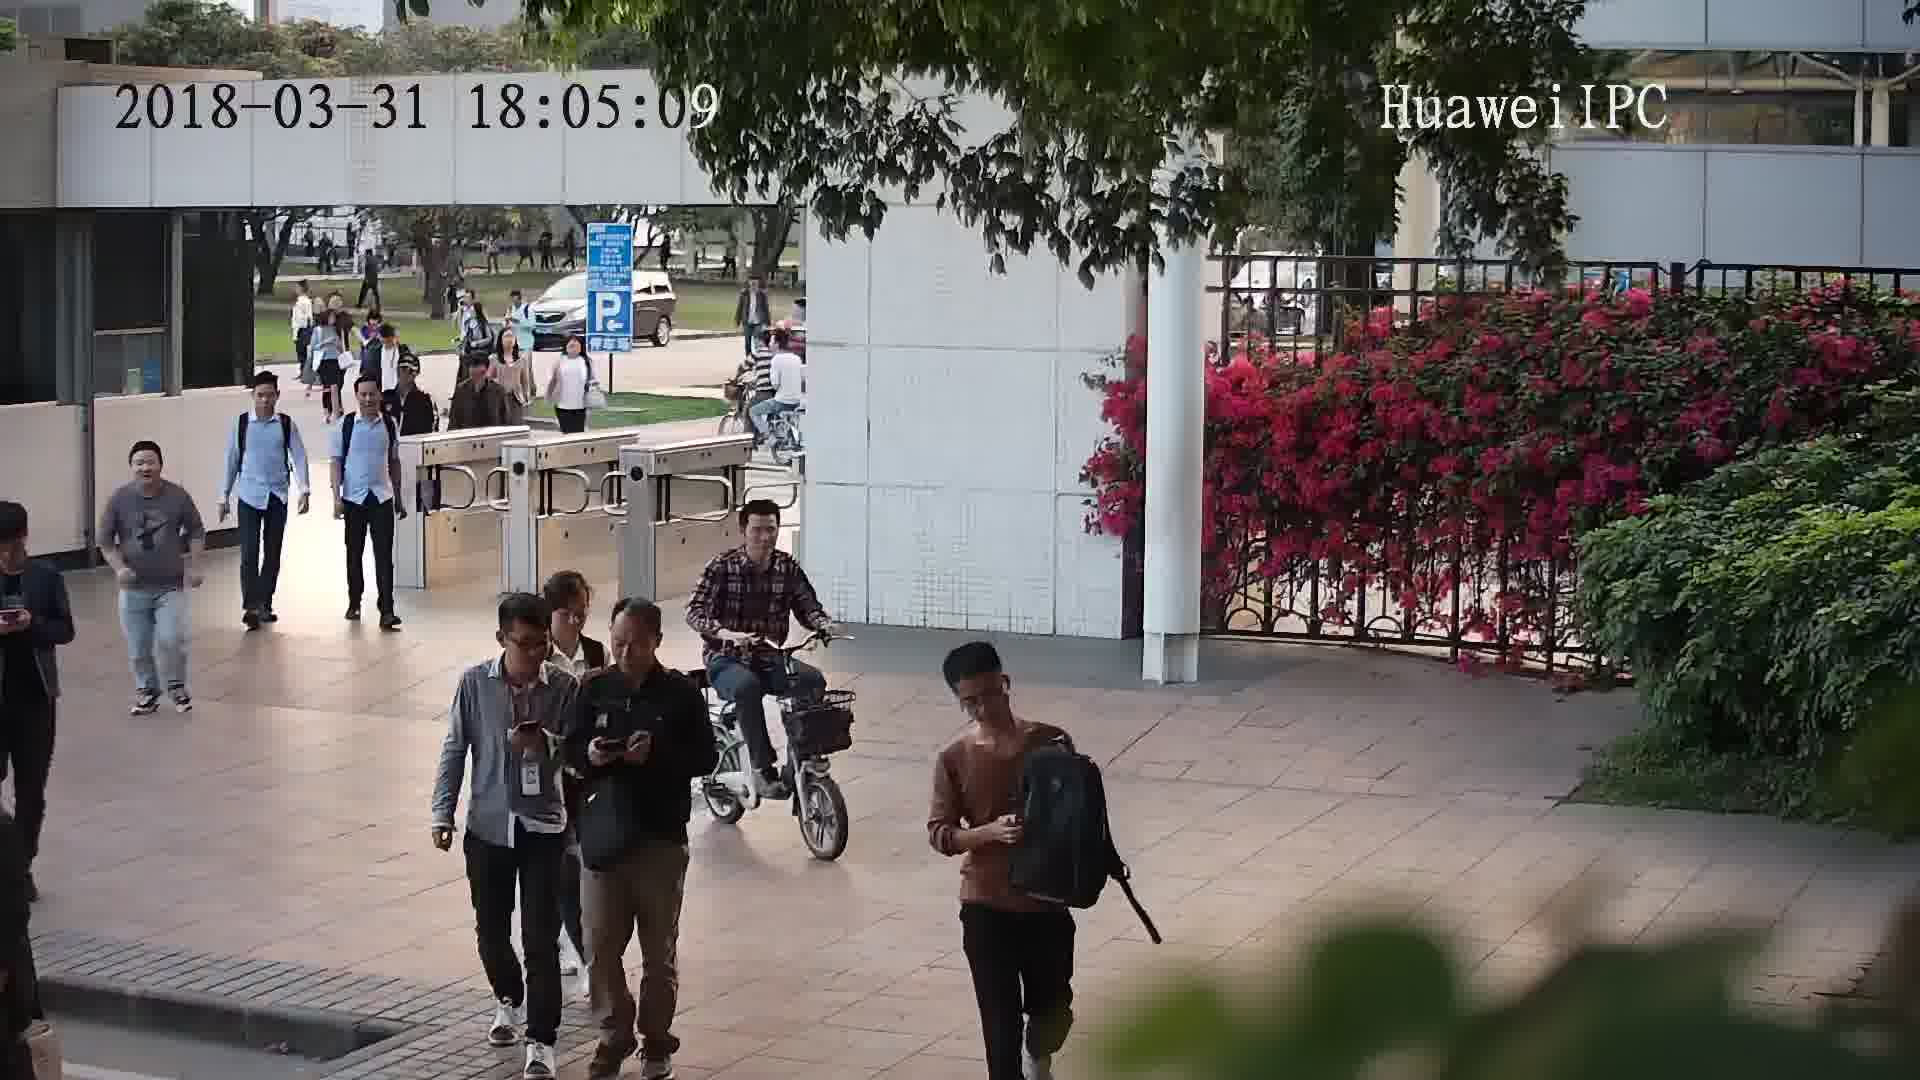face: (601, 614, 664, 677), (954, 670, 1009, 725), (503, 621, 554, 672), (545, 590, 594, 639), (740, 511, 781, 559), (125, 448, 165, 485), (352, 383, 384, 415), (252, 381, 282, 415)
person: (927, 636, 1066, 769), (456, 586, 572, 711), (580, 593, 698, 713), (708, 492, 805, 581), (541, 566, 605, 670), (3, 498, 68, 599), (110, 437, 196, 511), (237, 368, 297, 435), (340, 373, 393, 438), (452, 352, 502, 401), (387, 356, 434, 407), (368, 317, 411, 363), (764, 324, 806, 370), (488, 324, 528, 370), (556, 326, 595, 371), (500, 289, 538, 322), (305, 306, 344, 336), (741, 328, 775, 361), (741, 272, 772, 300), (286, 276, 315, 306), (464, 303, 492, 333)
